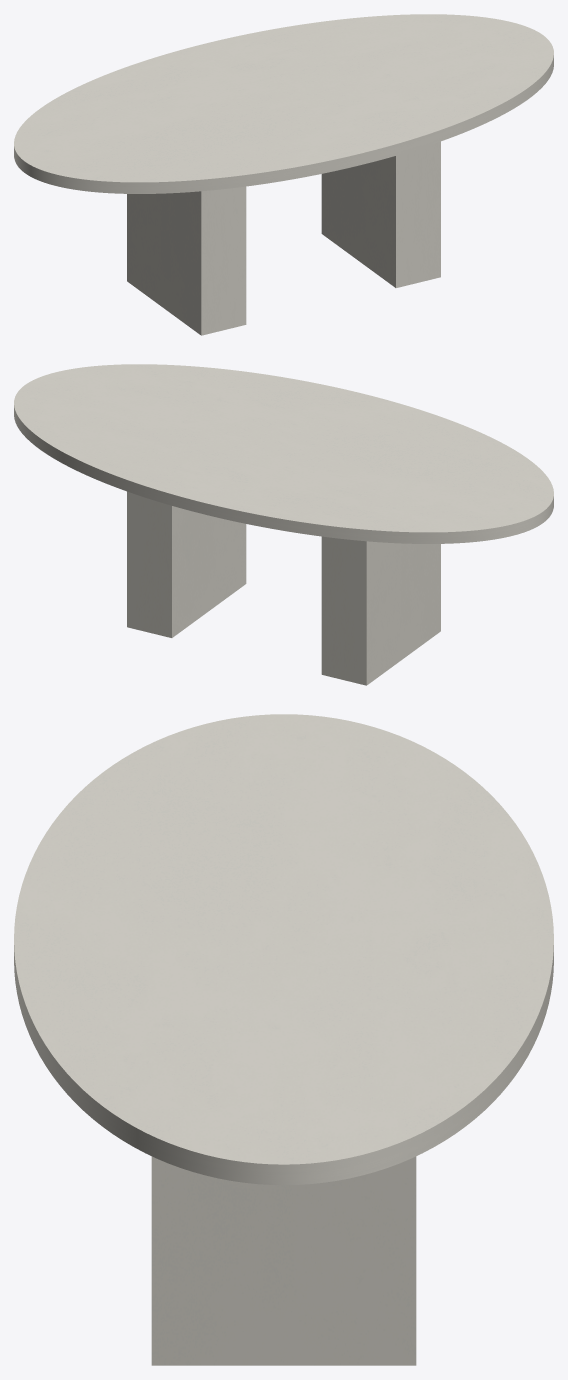
Rendered from pale_ellips_standard_ridge.glb.
The picture shows the model from 3 angles, top to bottom: view 1: azimuth 30°, elevation 25°; view 2: azimuth 150°, elevation 25°; view 3: azimuth 270°, elevation 25°; orthographic projection. The views are drawn at different scales.
Visible parts, largest first — view 1: standard_ellips, ridge; view 2: standard_ellips, ridge; view 3: standard_ellips, ridge.
Part boxes in pixels (x1,y1,x2,y2): standard_ellips: (14,14,553,193); ridge: (127,141,440,335); standard_ellips: (14,364,553,543); ridge: (127,491,440,685); standard_ellips: (14,714,553,1185); ridge: (151,1156,416,1365).
Bounding box in the file's own units: 7.5 × 2.5 × 3.8.
Materials: 1 (1 with a texture image).
